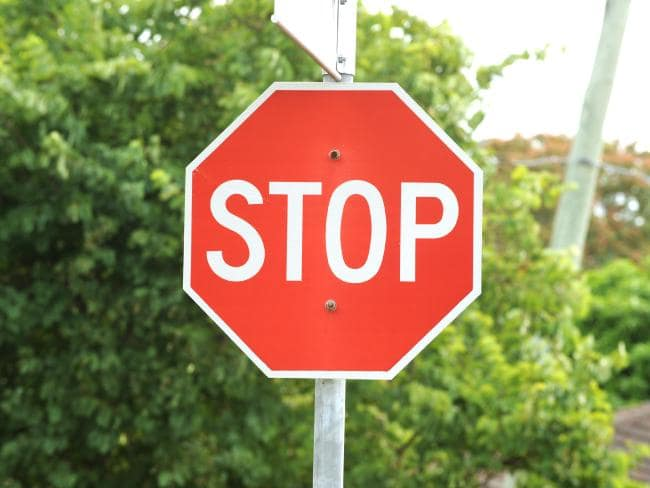stop: (180, 79, 487, 382)
